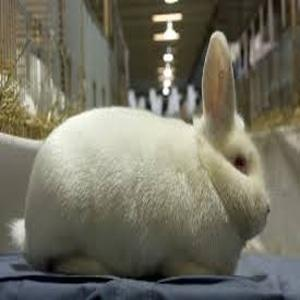rabbit: (25, 32, 269, 276)
